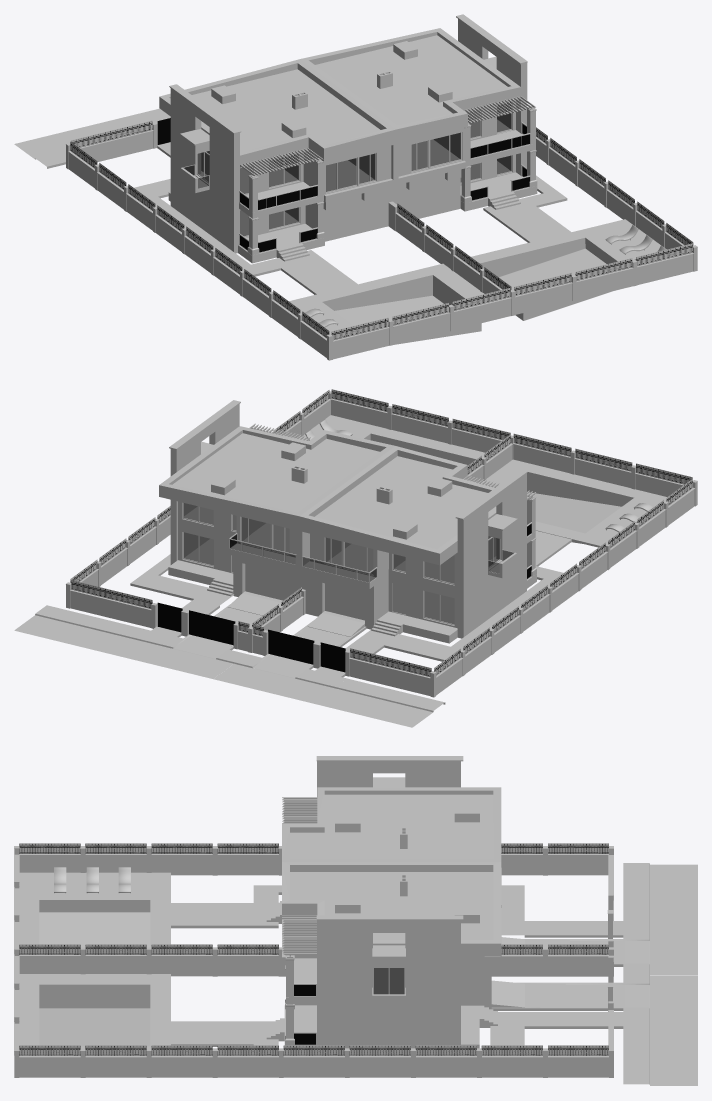
The model's file is House_2.FBX.
3 renders of one model, top to bottom at view 1: azimuth 30°, elevation 25°; view 2: azimuth 150°, elevation 25°; view 3: azimuth 270°, elevation 25°, orthographic. The views are drawn at different scales.
Parts seen in each view (by area): view 1: Villa-2-house, Villa-2-wall, Villa-2-waterpool, road; view 2: Villa-2-house, Villa-2-wall, Villa-2-waterpool, road; view 3: Villa-2-house, Villa-2-wall, Villa-2-waterpool, road.
Boxes of the visible parts, box(x1,y1,x2,y2) form: Villa-2-house: box(159, 14, 537, 263); Villa-2-wall: box(66, 118, 697, 360); Villa-2-waterpool: box(35, 128, 666, 344); road: box(14, 108, 170, 158); Villa-2-house: box(159, 400, 536, 643); Villa-2-wall: box(66, 389, 697, 697); Villa-2-waterpool: box(35, 415, 666, 712); road: box(14, 615, 432, 727); Villa-2-house: box(266, 756, 524, 1048); Villa-2-wall: box(14, 843, 613, 1077); Villa-2-waterpool: box(19, 863, 649, 1084); road: box(650, 864, 697, 1085).
Size of the model in its own units: 3594 by 4694 by 1204.
